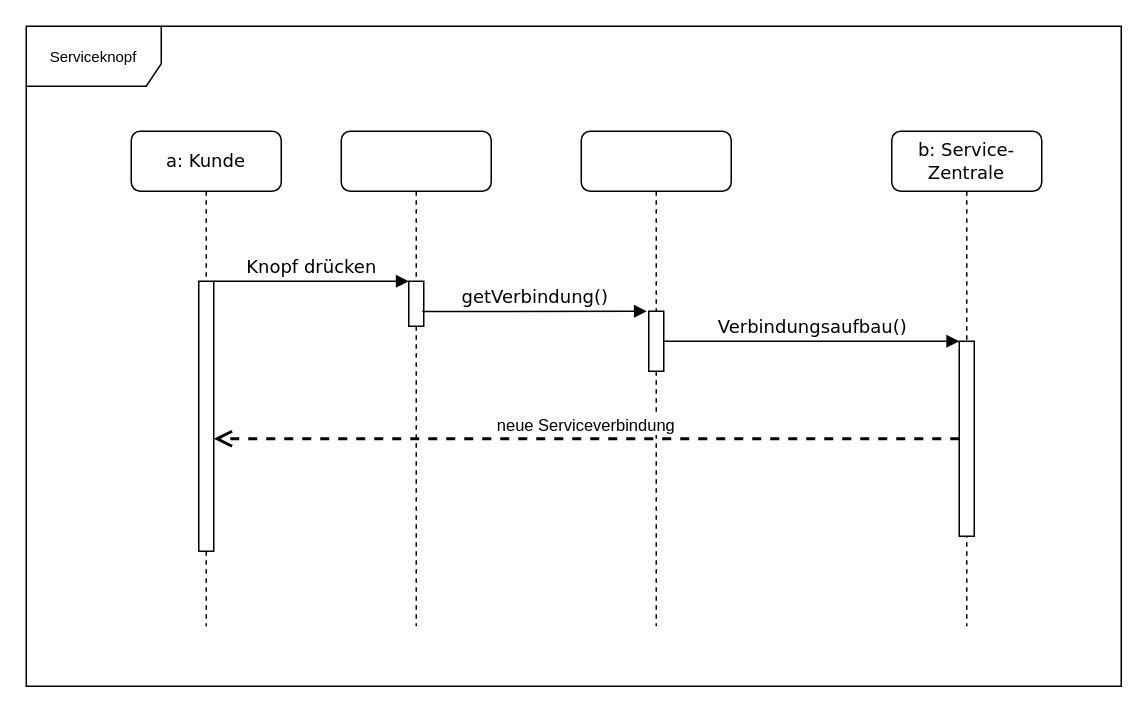
Image size: 1148x713. Some labels were removed from this diagram. Each missing label, with the box of its shape:
b: Serviceknopf: (340, 130, 491, 626)
c: Service- Controller: (580, 130, 731, 626)
